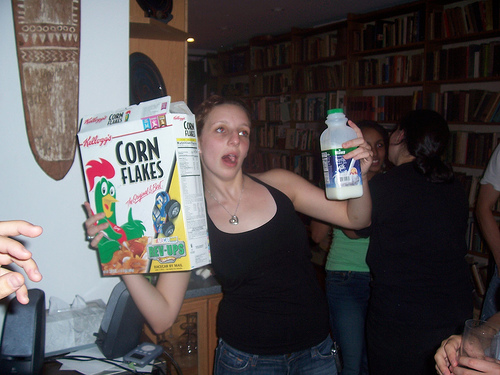without_mask: (197, 101, 257, 184), (352, 123, 389, 175)
